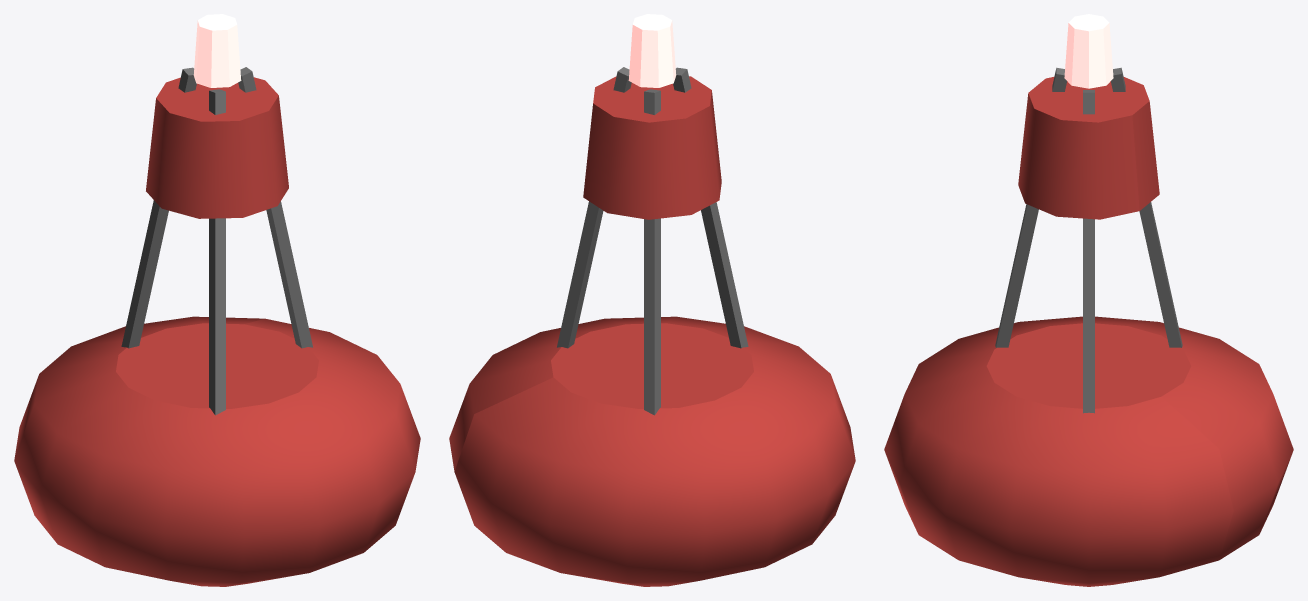
Rendered from buoy-red.glb.
3 views of the same model, side by side, from view 1: azimuth 30°, elevation 25°; view 2: azimuth 150°, elevation 25°; view 3: azimuth 270°, elevation 25° (orthographic).
Parts seen in each view (by area): view 1: buoy-red; view 2: buoy-red; view 3: buoy-red.
Part boxes in pixels (box(x1,y1,x2,y2)): buoy-red: box(14, 14, 420, 586); buoy-red: box(449, 14, 855, 586); buoy-red: box(884, 14, 1293, 586).
Size of the model in its own units: 2 by 2.9 by 2.
